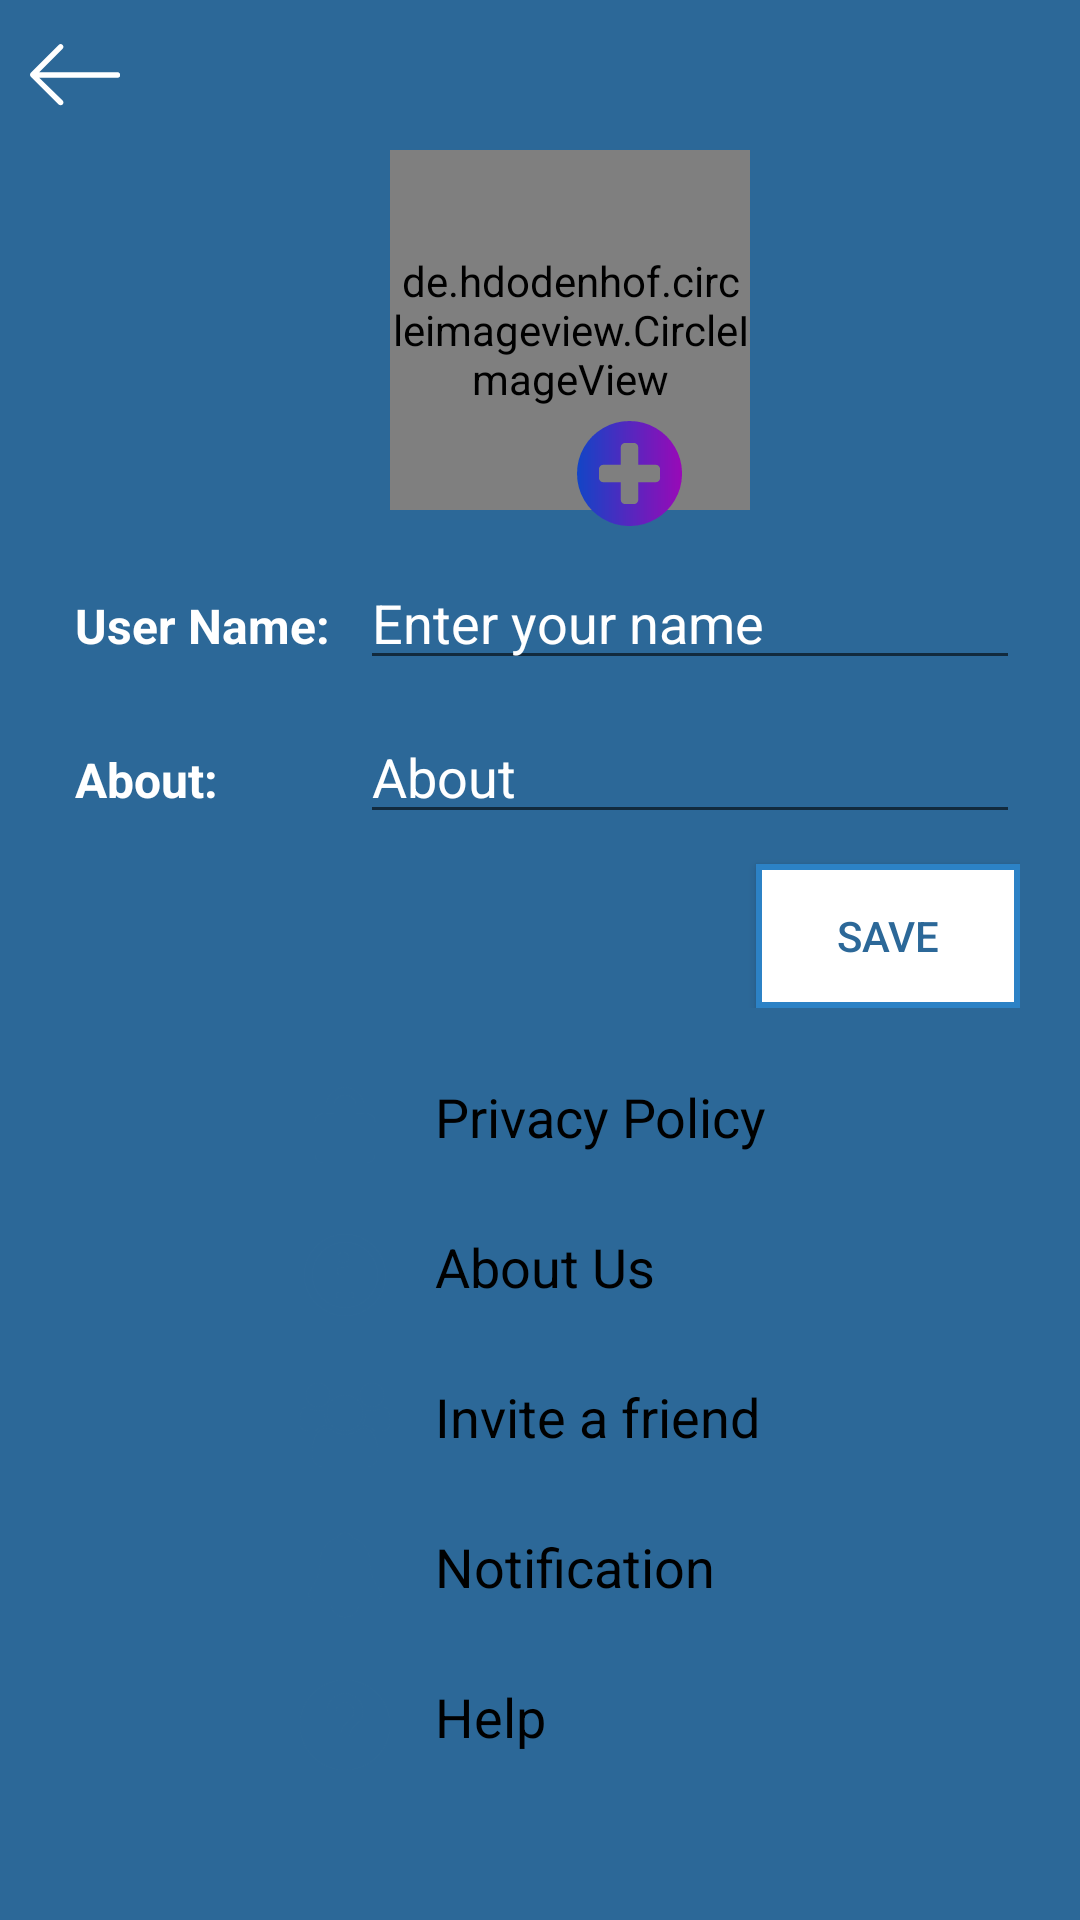

Screen size 1080 x 1920. Icon name, then its box in pixels as {"left": x1, "top": y1, "right": x2, "bottom": y2}:
back: {"left": 30, "top": 44, "right": 120, "bottom": 106}
plus: {"left": 562, "top": 421, "right": 697, "bottom": 526}
